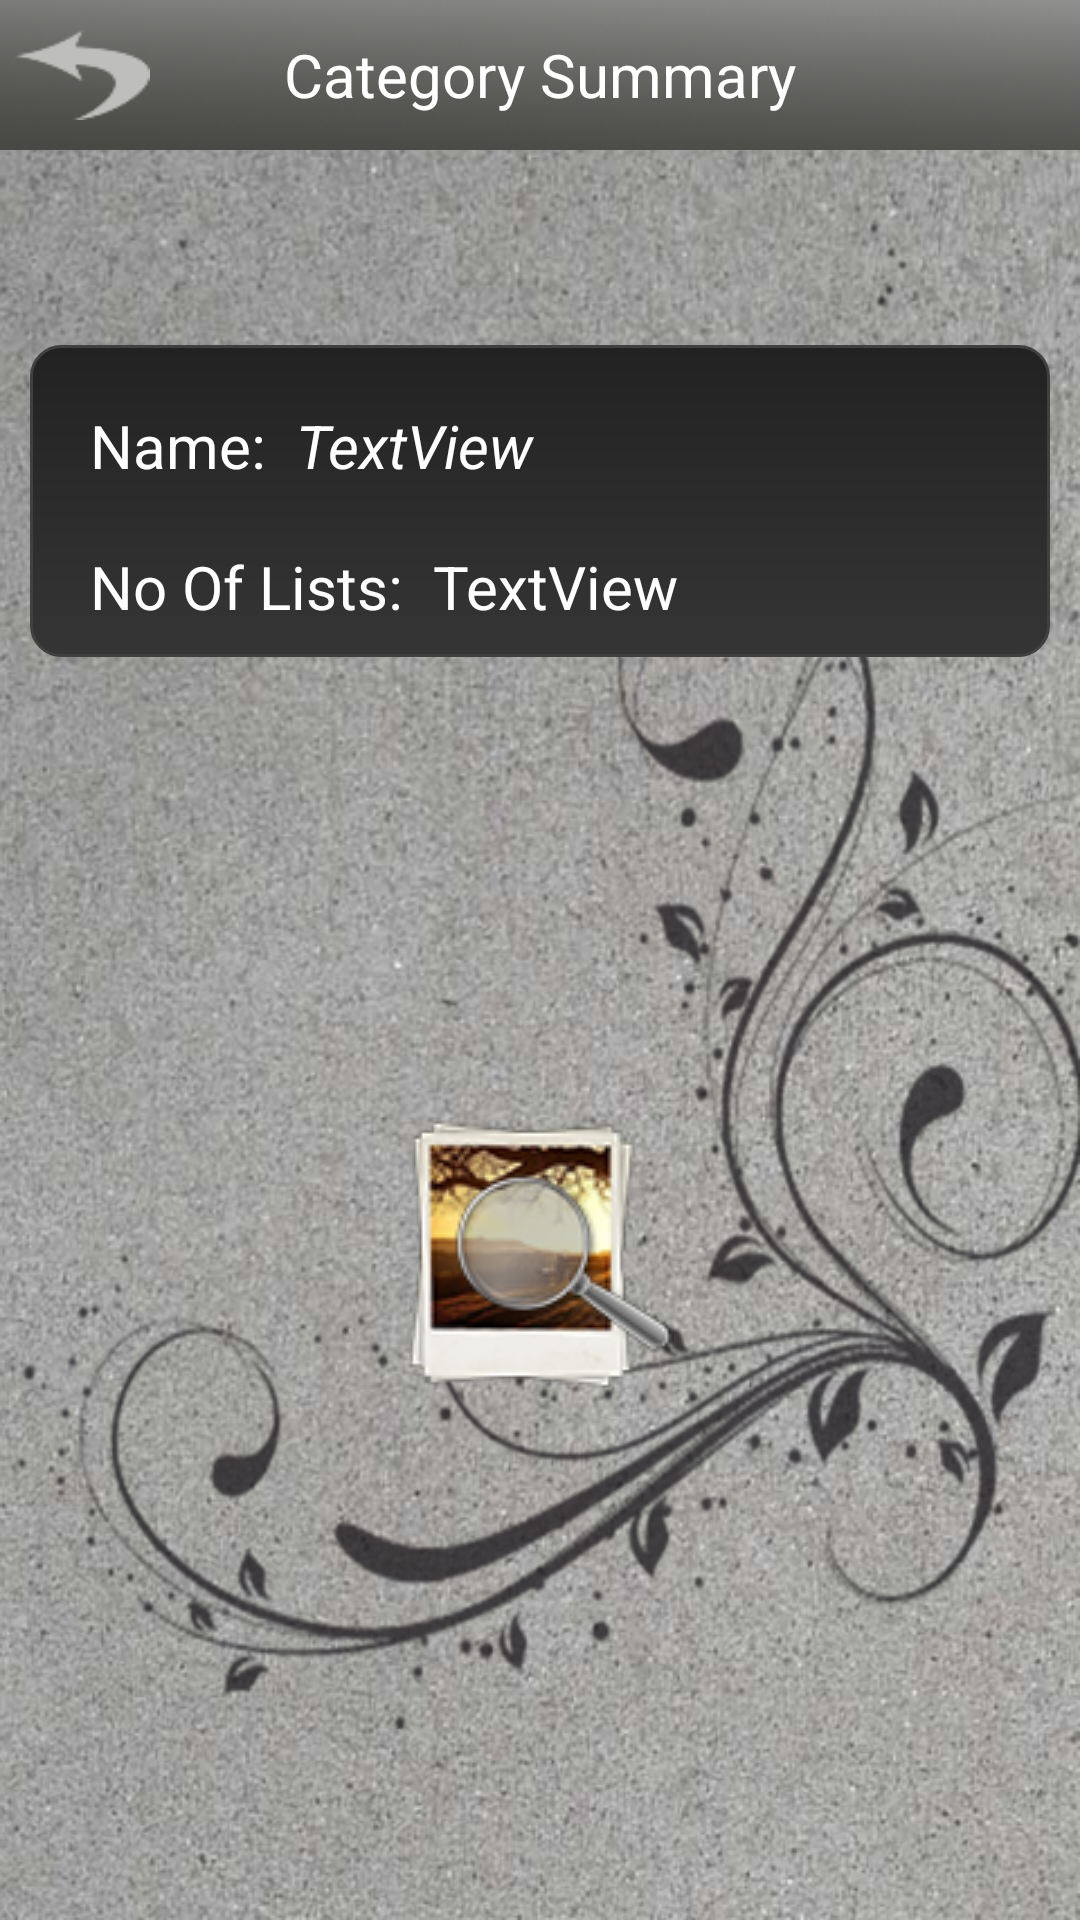

Icon click points for this 1080x1920 phone screenshot, format (x,y):
backbutton: (82,75)
